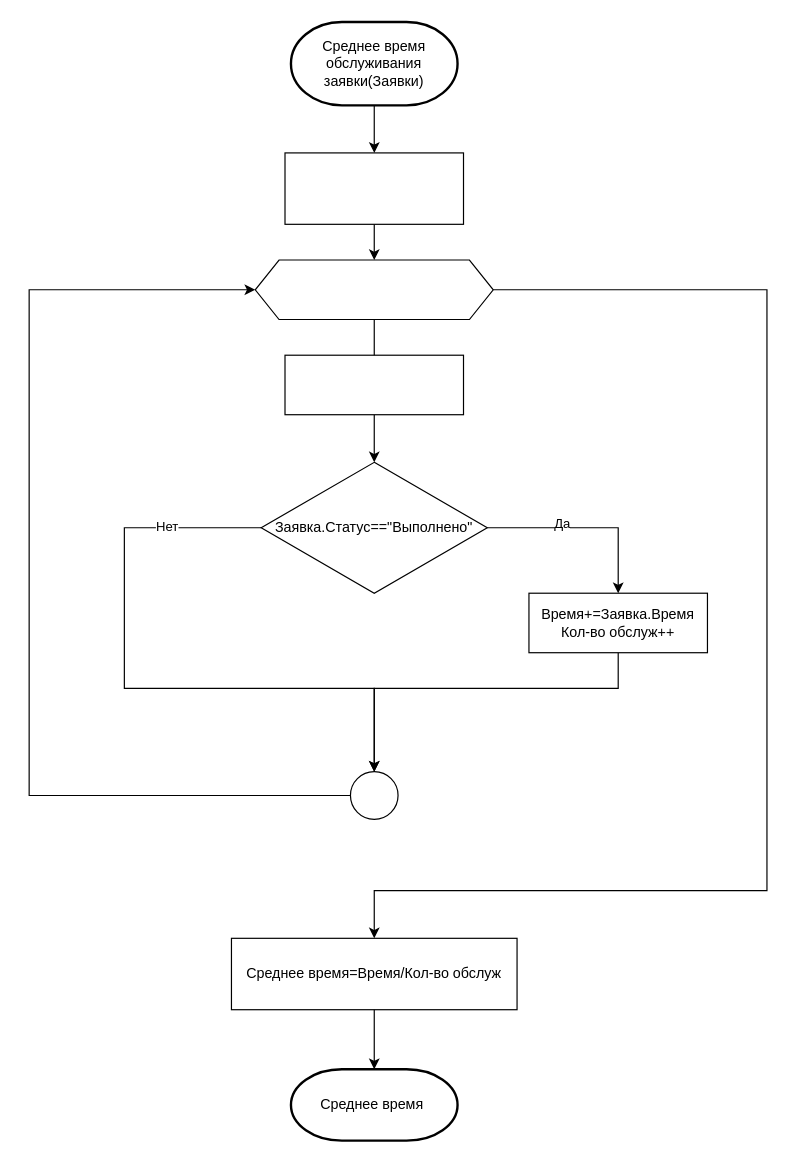
Some shapes in this 797 by 1161 pixel diagram are drawn without their labels. The centre of each missing label's shape, as x and y in pixels:
"i=0; Заявки.Кол-во-1; 1" goes at (373,289).
"Время=0 Кол-во обслуж=0" goes at (374,188).
"Заявка=Заявки[i]" goes at (374,384).
